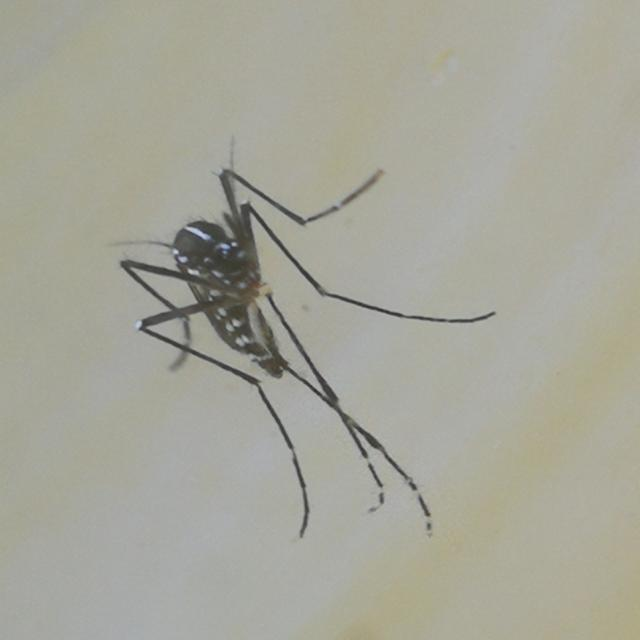albopictus: (94, 127, 476, 552)
